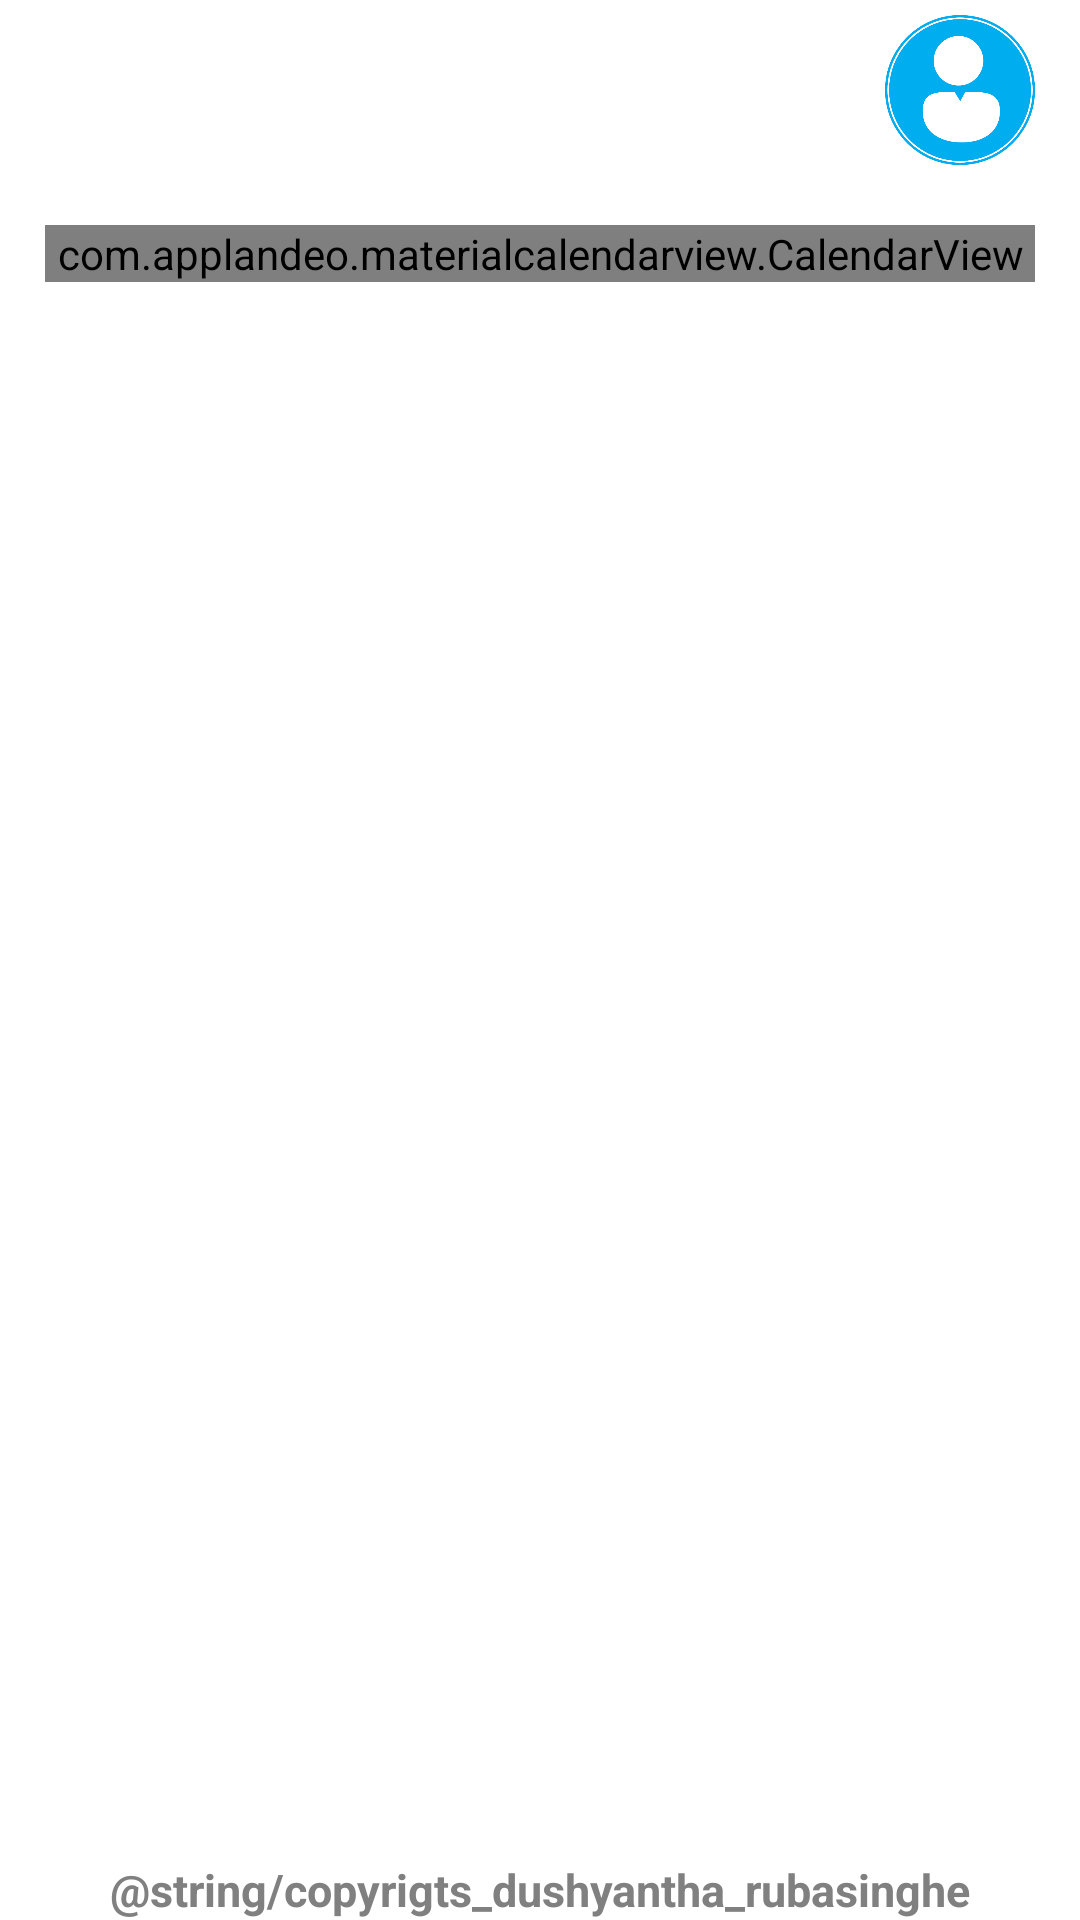

Icon bounding boxes for this 1080w x 1920h phone screenshot, format box=[x1, y1, x2, y2]:
avatar: box=[885, 15, 1035, 165]
